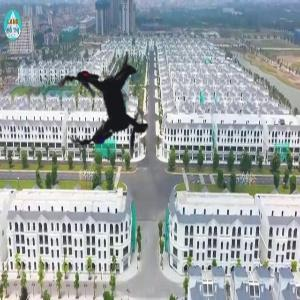drone: (21, 17, 206, 202)
